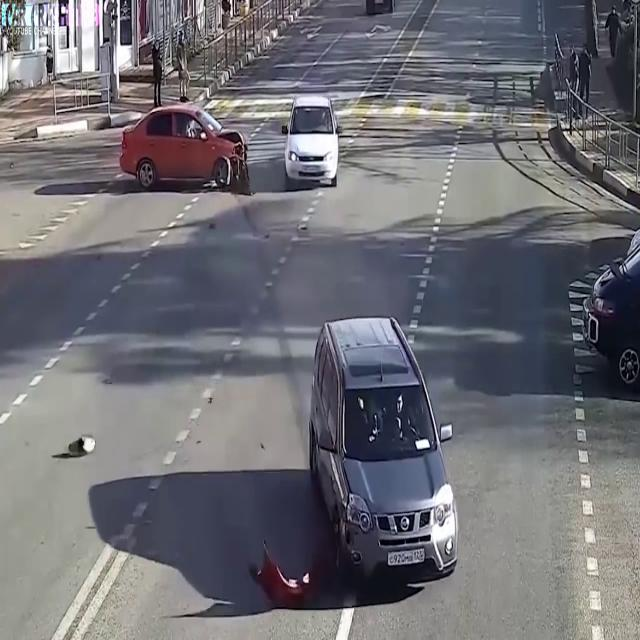Accident: (232, 332, 452, 596), (100, 57, 266, 235)
